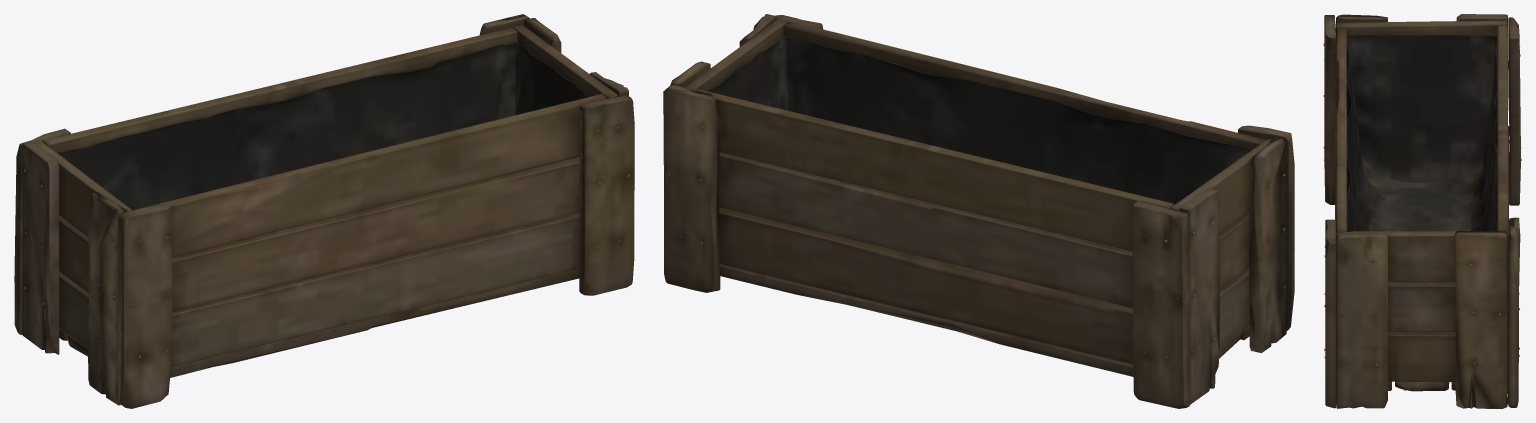
File: planter_box_02_lod1.glb
The picture shows the model from 3 angles, left to right: view 1: azimuth 30°, elevation 25°; view 2: azimuth 150°, elevation 25°; view 3: azimuth 270°, elevation 25°; orthographic projection. The views are drawn at different scales.
Visible parts, largest first — view 1: planter_box_02; view 2: planter_box_02; view 3: planter_box_02.
Boxes of the visible parts, x1,y1,x2,y2 form: planter_box_02: [14, 14, 634, 408]; planter_box_02: [663, 14, 1294, 408]; planter_box_02: [1323, 14, 1521, 408].
Bounding box in the file's own units: 1.25 × 0.4534 × 0.4672.
Materials: 1 (1 with a texture image).
